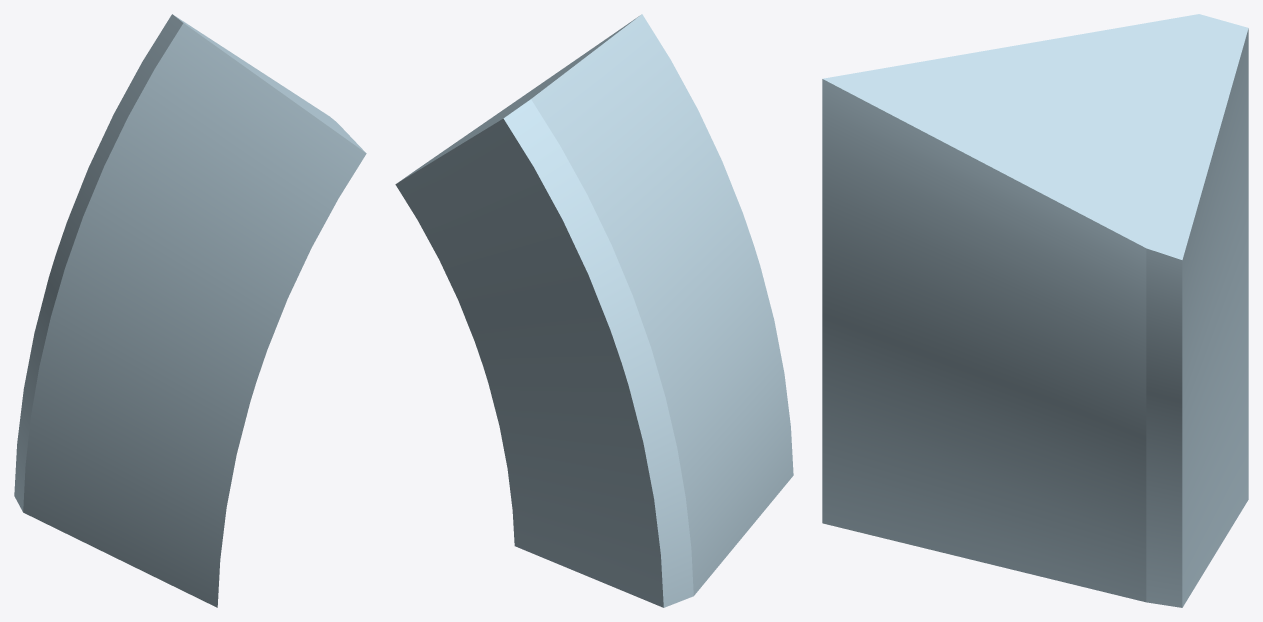
Rendered from Sub_6_Cell_3_1.gltf.
3 renders of one model, left to right at view 1: azimuth 30°, elevation 25°; view 2: azimuth 150°, elevation 25°; view 3: azimuth 270°, elevation 25°, orthographic. The views are drawn at different scales.
Parts seen in each view (by area): view 1: Sub_6_Cell_3_1; view 2: Sub_6_Cell_3_1; view 3: Sub_6_Cell_3_1.
Boxes of the visible parts, x1=… form: Sub_6_Cell_3_1: x1=14, y1=14, x2=366, y2=607; Sub_6_Cell_3_1: x1=395, y1=14, x2=793, y2=607; Sub_6_Cell_3_1: x1=822, y1=14, x2=1248, y2=607.
Bounding box in the file's own units: 0.0616 × 0.0883 × 0.0589.
